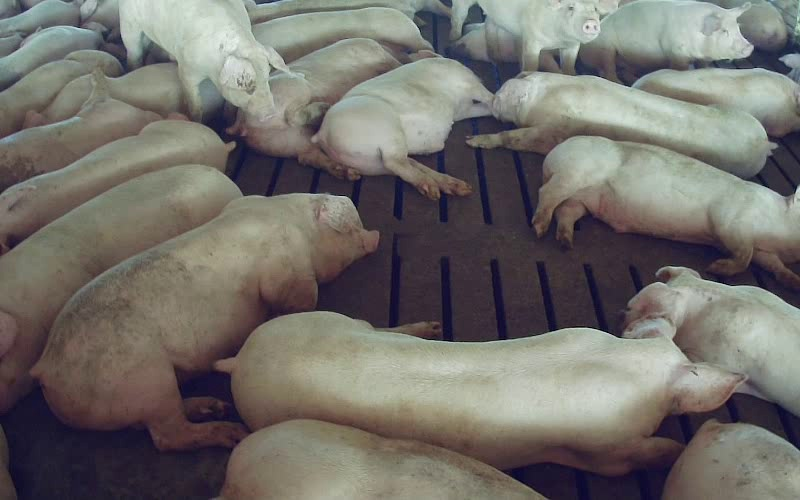pig: (32, 197, 377, 449), (0, 165, 240, 412), (532, 136, 799, 288), (467, 72, 775, 177), (0, 120, 234, 254), (312, 51, 492, 198), (625, 267, 799, 416), (220, 419, 544, 499), (228, 38, 408, 178), (119, 0, 286, 120), (0, 69, 161, 191), (579, 0, 753, 82), (451, 0, 618, 74), (633, 68, 799, 136), (0, 50, 122, 137), (252, 7, 432, 62), (0, 22, 106, 90)
